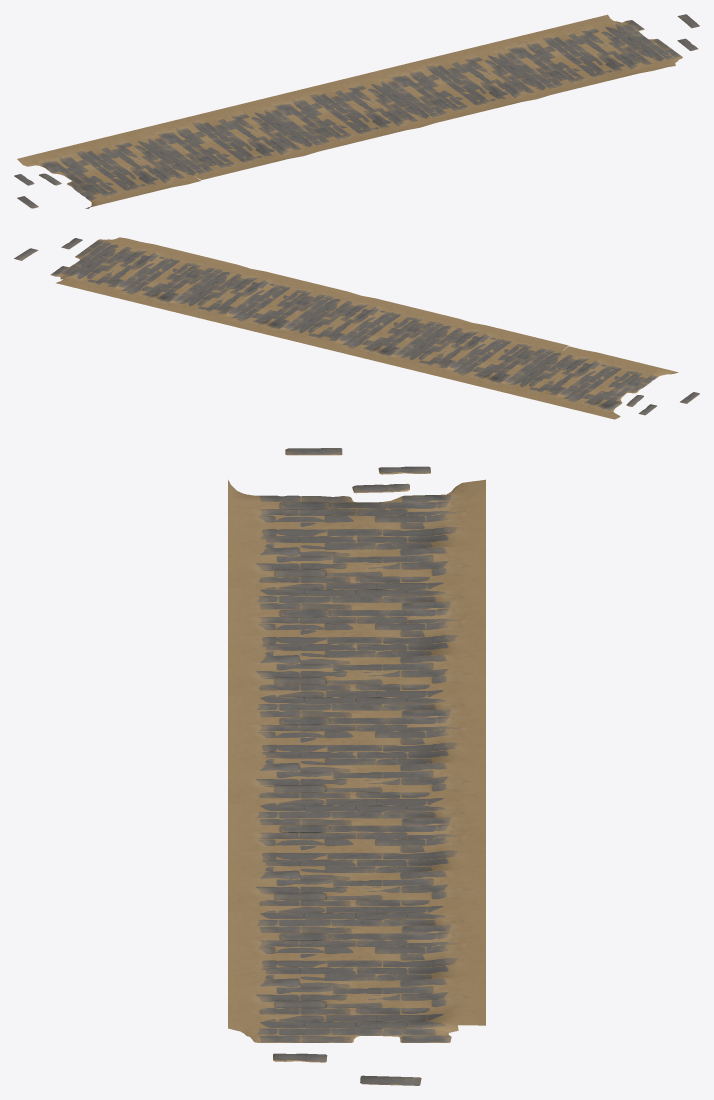
Rendered from SM_ENV_LKNVLD_Ground_Right_RoadToGarden_05.FBX.
3 renders of one model, top to bottom at view 1: azimuth 30°, elevation 25°; view 2: azimuth 150°, elevation 25°; view 3: azimuth 270°, elevation 25°, orthographic. The views are drawn at different scales.
Visible parts, largest first — view 1: SM_ENV_LKNVLD_Ground_Right_RoadToGarden_05; view 2: SM_ENV_LKNVLD_Ground_Right_RoadToGarden_05; view 3: SM_ENV_LKNVLD_Ground_Right_RoadToGarden_05.
Boxes of the visible parts, x1,y1,x2,y2 form: SM_ENV_LKNVLD_Ground_Right_RoadToGarden_05: (14, 14, 699, 208); SM_ENV_LKNVLD_Ground_Right_RoadToGarden_05: (14, 237, 699, 419); SM_ENV_LKNVLD_Ground_Right_RoadToGarden_05: (228, 448, 485, 1085).
Bounding box in the file's own units: 3052 × 11.01 × 521.
